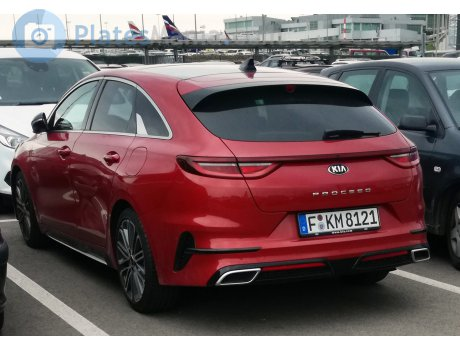License Plates: (311, 212, 376, 227)
